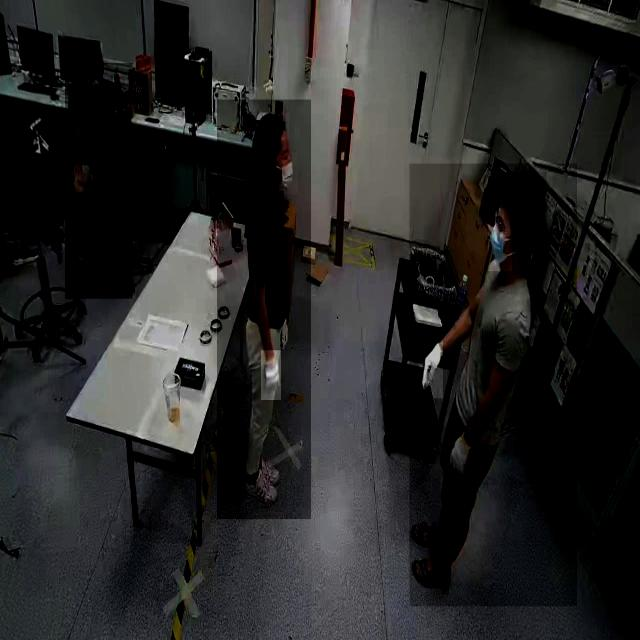face_mask: (488, 208, 512, 271), (274, 152, 298, 195), (86, 76, 102, 100)
hand_glove: (419, 335, 443, 398), (448, 426, 477, 476), (261, 350, 281, 401)
hand_noglove: (74, 165, 94, 193)
head_nohelmet: (495, 172, 547, 206), (252, 113, 290, 140), (81, 43, 103, 62)
person: (410, 164, 578, 607), (217, 100, 311, 520), (65, 63, 133, 300)
shoes: (244, 466, 278, 504), (248, 452, 282, 488)
